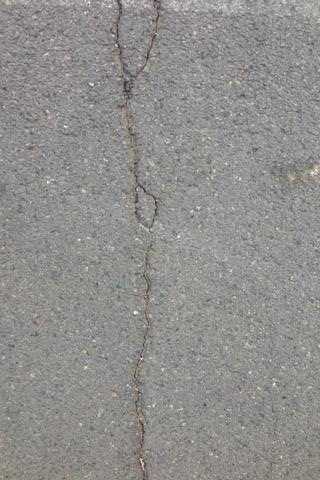A: (110, 1, 166, 480)
